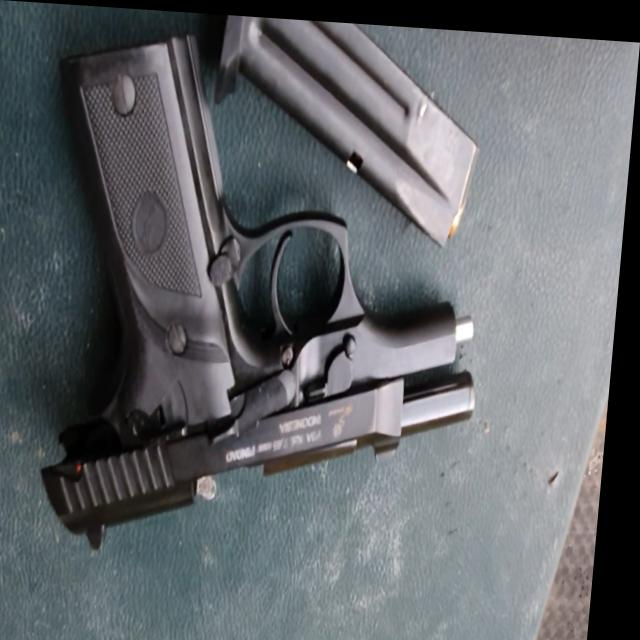handgun: (21, 22, 508, 572)
